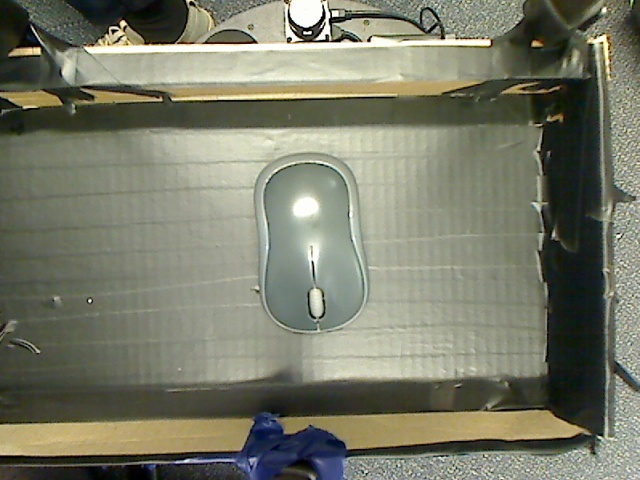mouse: (237, 141, 375, 340)
